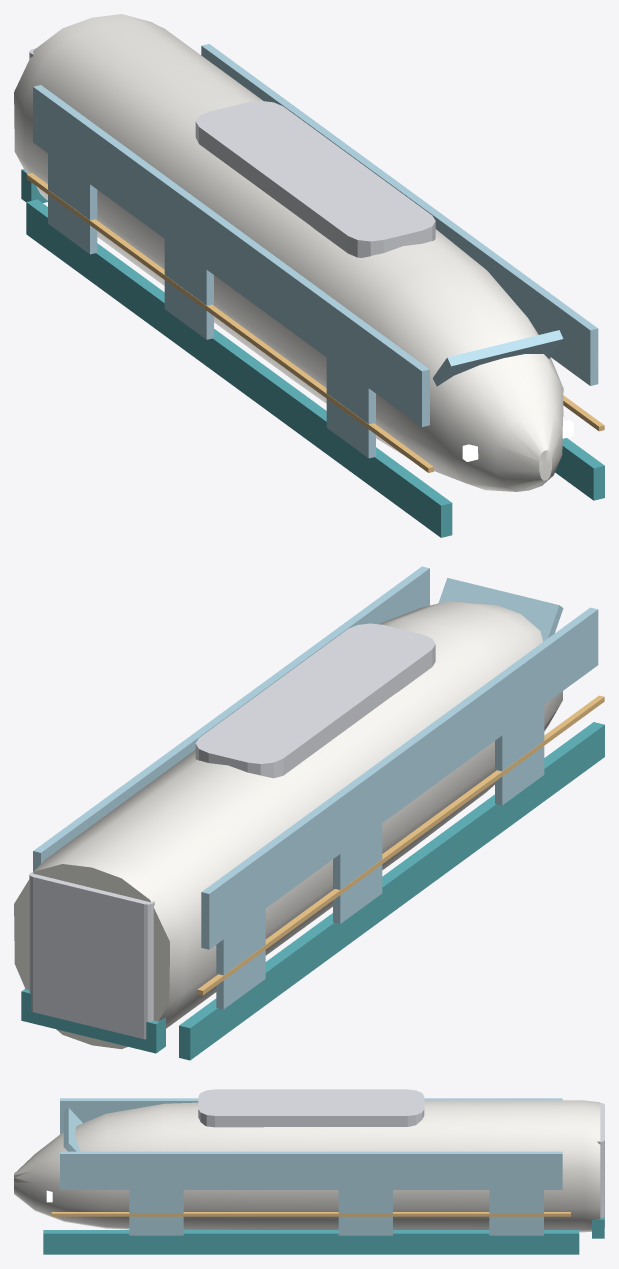
The model's file is arcology-towers-and-skyways-maglev-car-head-20349bf5__23261.glb.
3 views of the same model, one above another, from view 1: azimuth 30°, elevation 25°; view 2: azimuth 150°, elevation 25°; view 3: azimuth 270°, elevation 25° (orthographic). The views are drawn at different scales.
Parts seen in each view (by area): view 1: maglev-car-head, door-left-14, door-left-36, door-left-50; view 2: maglev-car-head, door-left-36, door-left-14, door-left-50; view 3: maglev-car-head, door-right-36, door-right-50, door-right-14.
Boxes of the visible parts, bbox=[...] form: maglev-car-head: bbox=[14, 14, 604, 537]; door-left-14: bbox=[164, 239, 213, 339]; door-left-36: bbox=[326, 358, 375, 458]; door-left-50: bbox=[48, 154, 97, 254]; maglev-car-head: bbox=[14, 566, 604, 1060]; door-left-36: bbox=[495, 705, 544, 805]; door-left-14: bbox=[333, 823, 382, 923]; door-left-50: bbox=[216, 909, 265, 1009]; maglev-car-head: bbox=[14, 1089, 604, 1254]; door-right-36: bbox=[129, 1190, 183, 1235]; door-right-50: bbox=[489, 1190, 543, 1235]; door-right-14: bbox=[338, 1190, 392, 1235].
Bounding box in the file's own units: 3.14 × 3.32 × 14.11.
